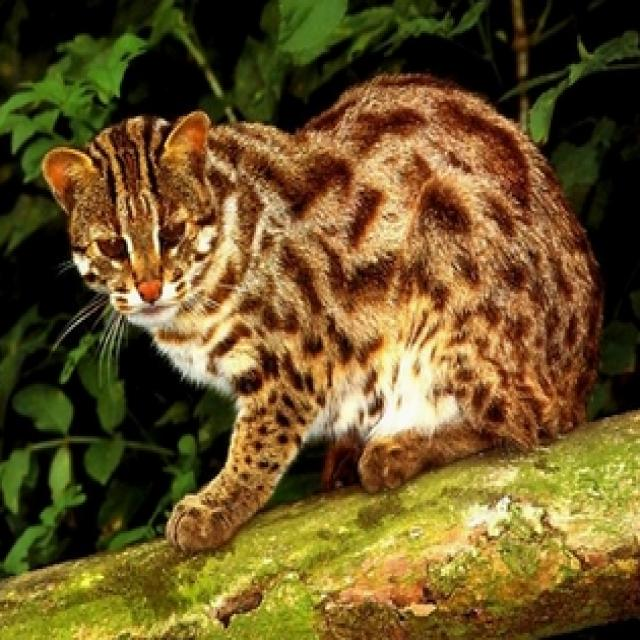Bengal: (41, 62, 608, 549)
